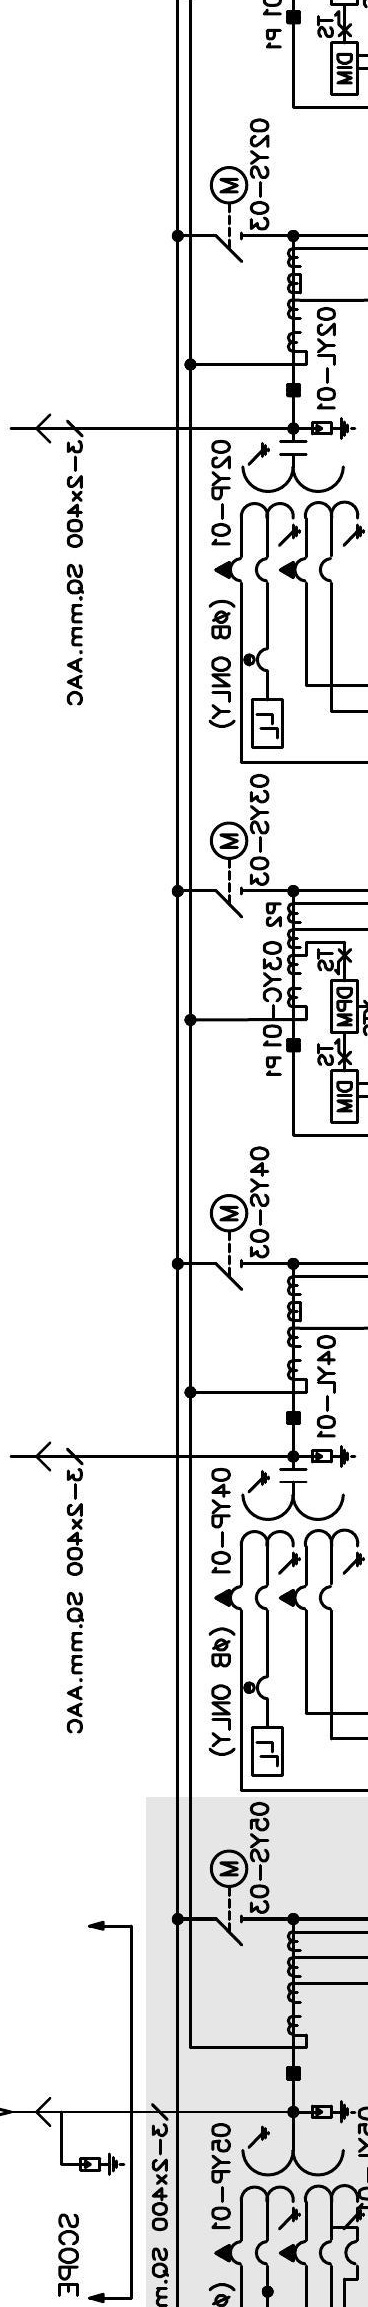115_1way_ds_w_motor: (208, 165, 249, 264), (208, 820, 249, 919), (209, 1193, 249, 1292), (209, 1848, 249, 1947)
115_cvt_1p: (213, 439, 366, 585), (214, 1467, 366, 1613)
115_la: (311, 1444, 357, 1469), (311, 416, 357, 440), (311, 2100, 357, 2124), (79, 2153, 126, 2176)
115_vt_1p: (214, 2125, 365, 2268)
DIM: (329, 1069, 359, 1125), (330, 41, 359, 97)
DPM: (329, 978, 359, 1035)
LL: (251, 1726, 285, 1777), (251, 698, 284, 749)
